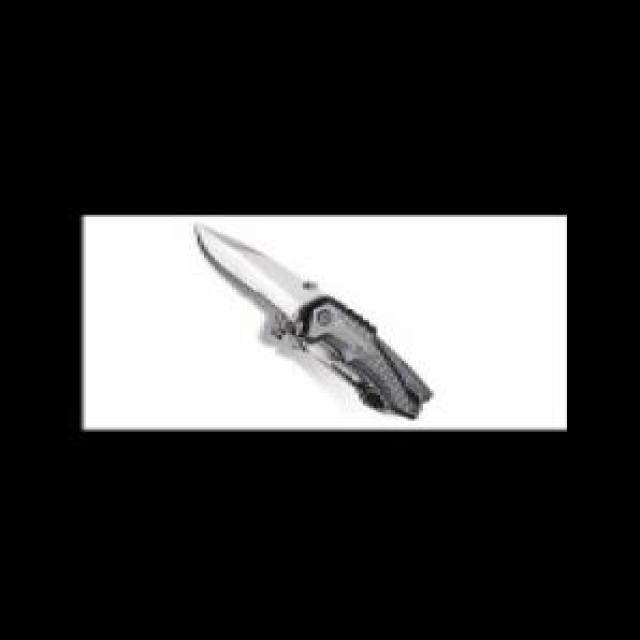knife: (185, 213, 438, 423)
